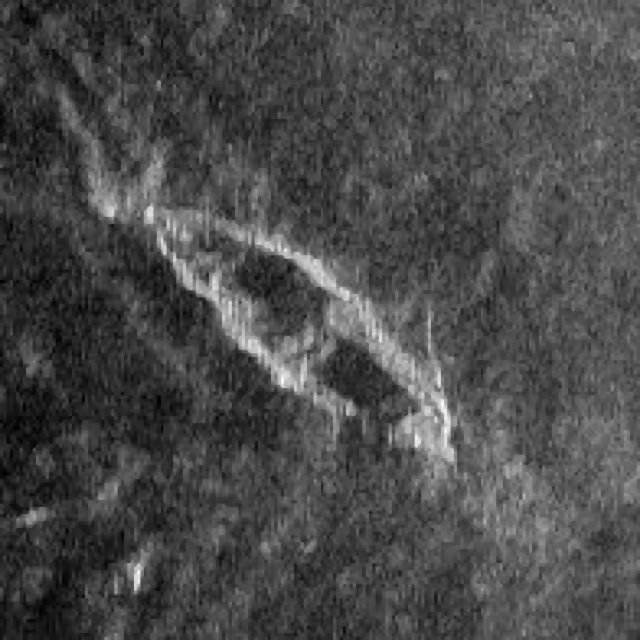Ship: (126, 179, 467, 479)
